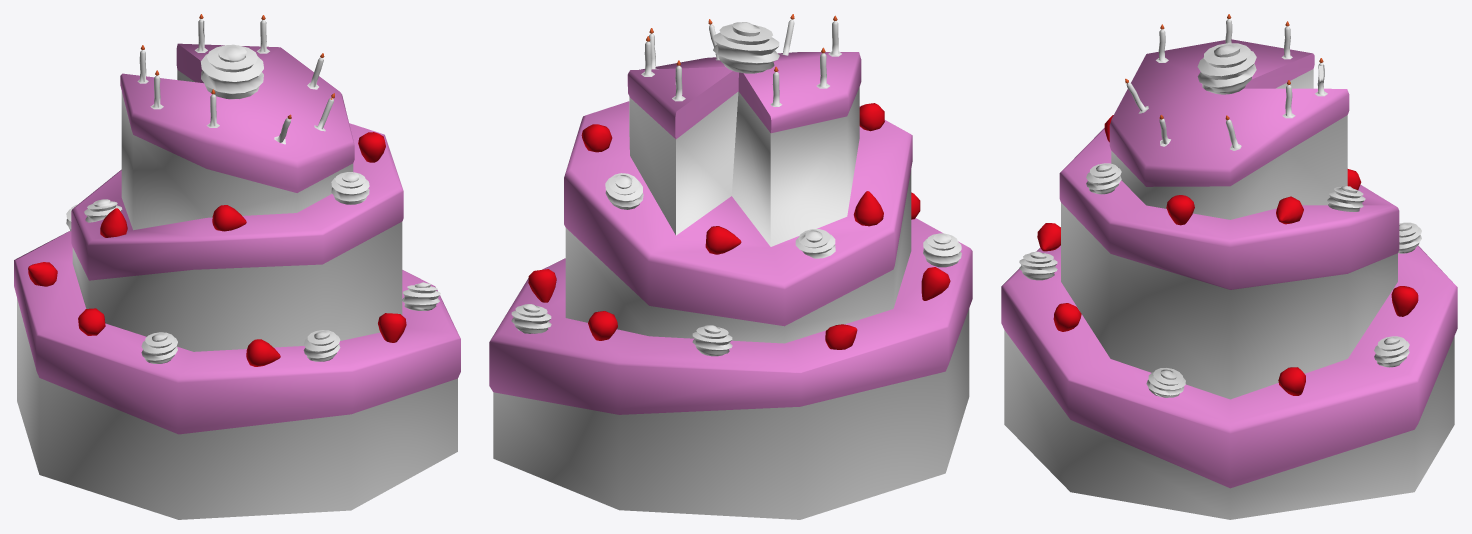
Rendered from Cake.fbx.
3 views of the same model, side by side, from view 1: azimuth 30°, elevation 25°; view 2: azimuth 150°, elevation 25°; view 3: azimuth 270°, elevation 25° (orthographic). The views are drawn at different scales.
Visible parts, largest first — view 1: Sphere.040; view 2: Sphere.040; view 3: Sphere.040.
Part boxes in pixels (<box>): Sphere.040: <box>14,14,460,519</box>; Sphere.040: <box>489,14,972,519</box>; Sphere.040: <box>1001,14,1457,519</box>.
Size of the model in its own units: 91.93 by 83.53 by 91.86.
